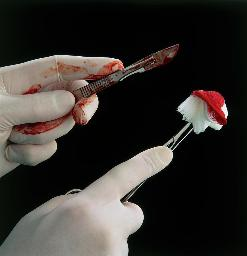scalpel: (70, 44, 180, 102)
